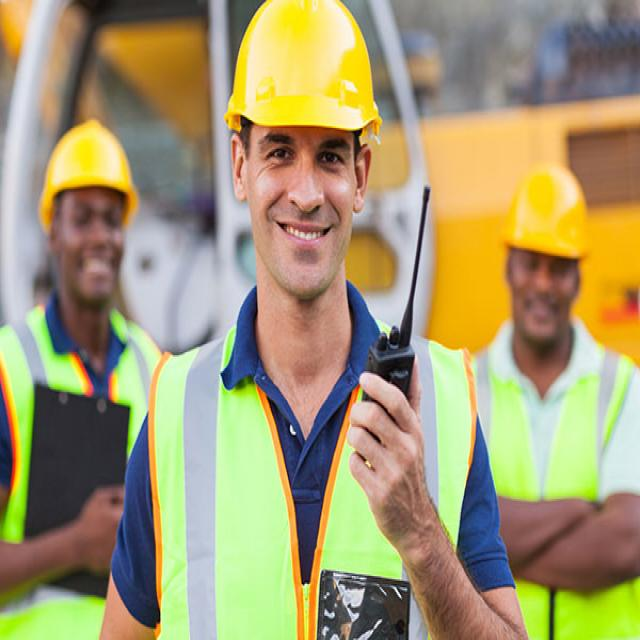Reflective-Jacket: (144, 315, 479, 635), (0, 299, 162, 637), (467, 339, 635, 640)
Safety-Helmet: (221, 1, 383, 140), (35, 114, 142, 225), (495, 152, 597, 264)
